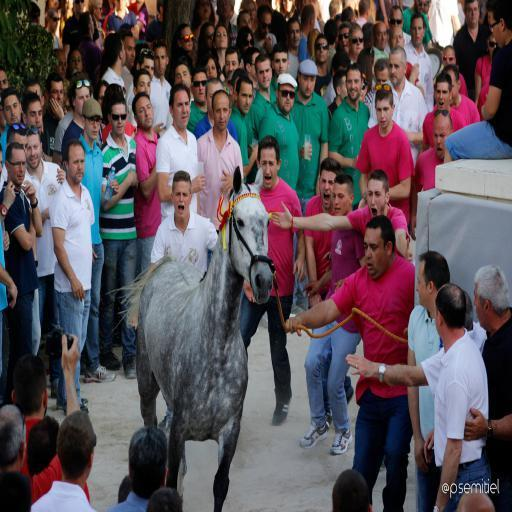horse: (104, 162, 274, 512)
